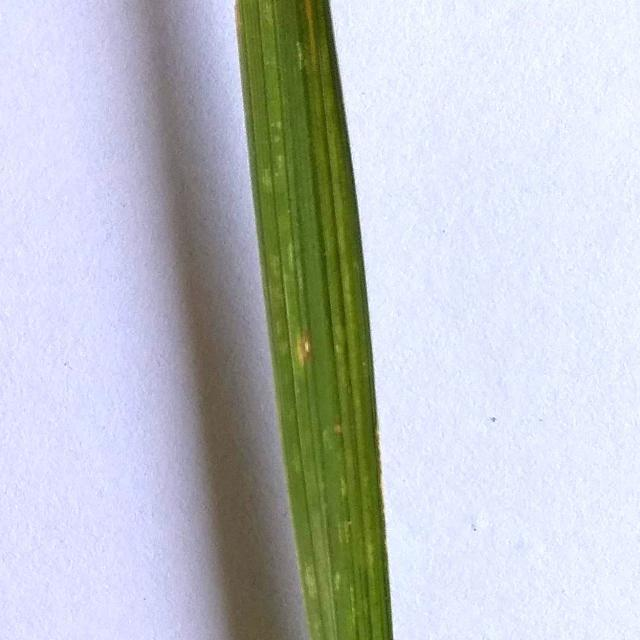Blast: (296, 334, 326, 362)
